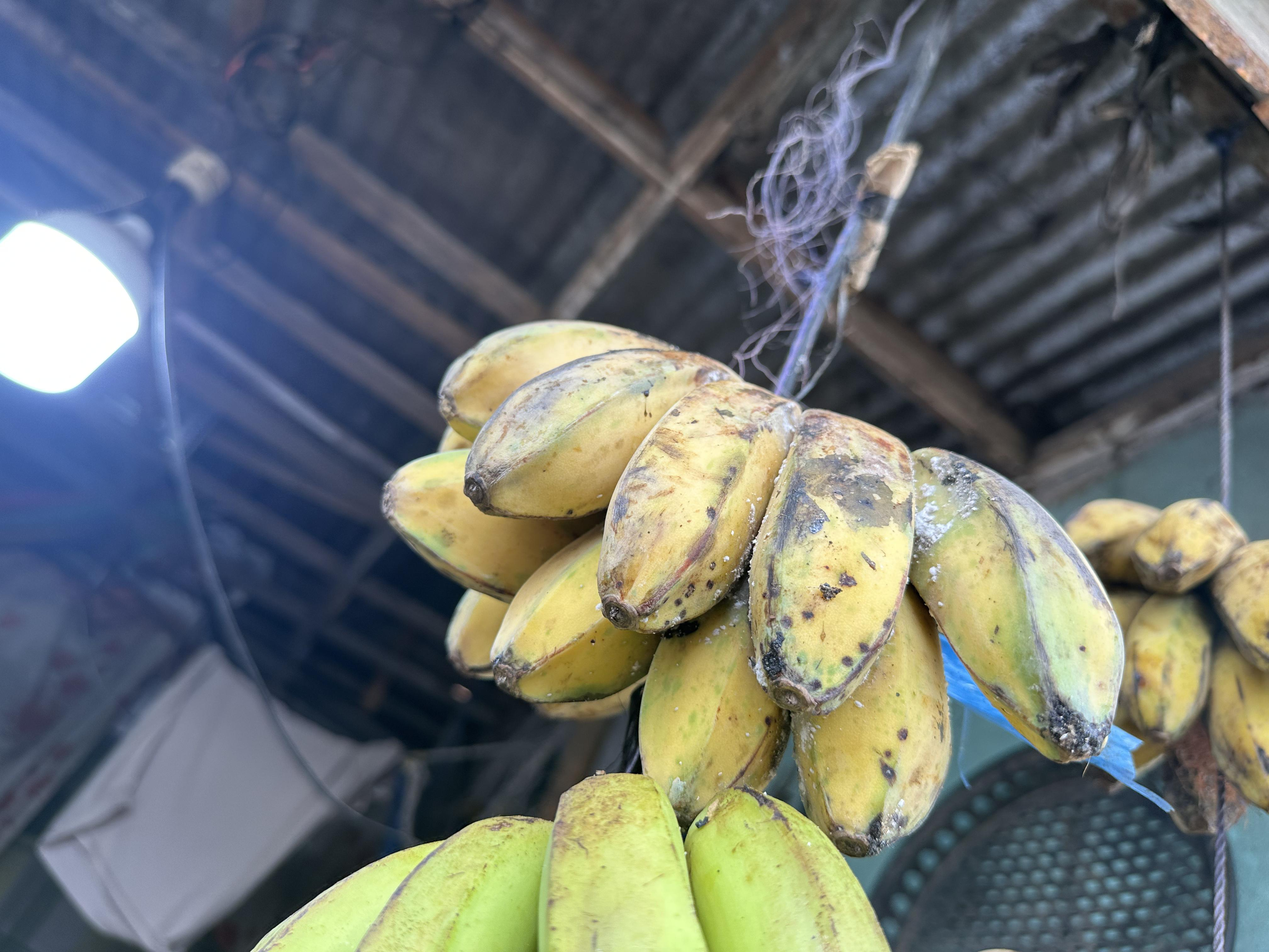ripe: (1063, 496, 1269, 815)
underripe: (382, 322, 1126, 857)
